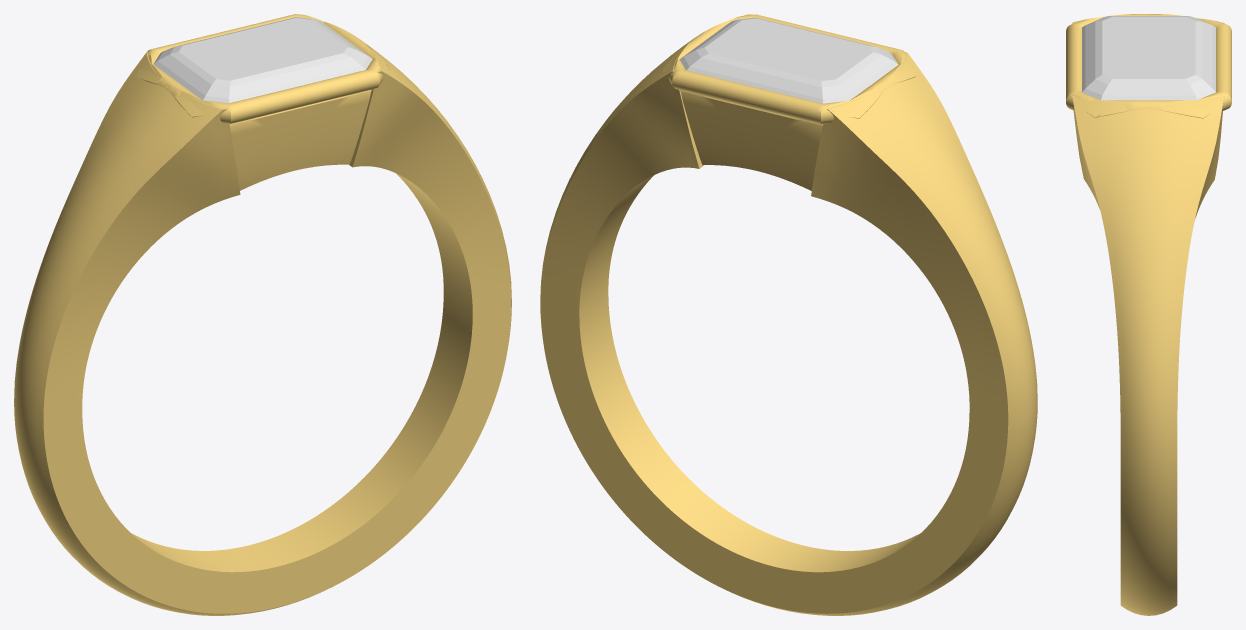
Rendered from GianV4fullbez_blender.glb.
3 renders of one model, left to right at view 1: azimuth 30°, elevation 25°; view 2: azimuth 150°, elevation 25°; view 3: azimuth 270°, elevation 25°, orthographic. The views are drawn at different scales.
Visible parts, largest first — view 1: Gian YG V4 for 3d model, Gian dia for 3d model; view 2: Gian YG V4 for 3d model, Gian dia for 3d model; view 3: Gian YG V4 for 3d model, Gian dia for 3d model.
Part boxes in pixels (x1,y1,x2,y2): Gian YG V4 for 3d model: (14,14,511,615); Gian dia for 3d model: (153,17,372,103); Gian YG V4 for 3d model: (540,14,1037,615); Gian dia for 3d model: (679,17,898,103); Gian YG V4 for 3d model: (1066,14,1231,615); Gian dia for 3d model: (1082,16,1215,100).
Size of the model in its own units: 20.3 by 22.22 by 6.16.
